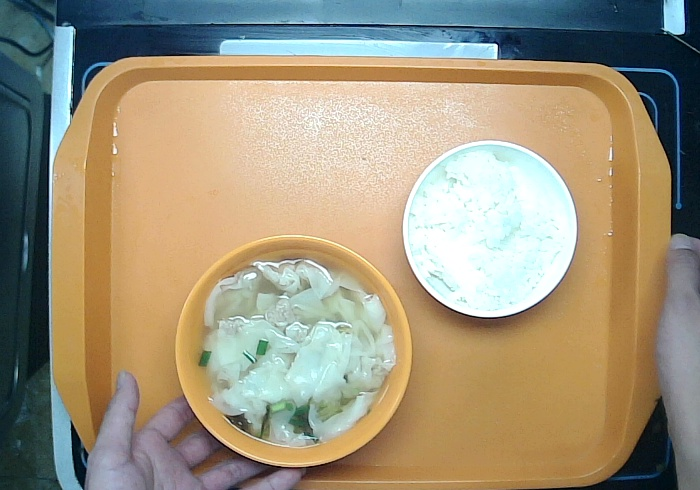NLDX-Fan_Wan: (394, 137, 583, 326)
NLDX-Hun_Tun_Wan: (164, 224, 419, 472)
